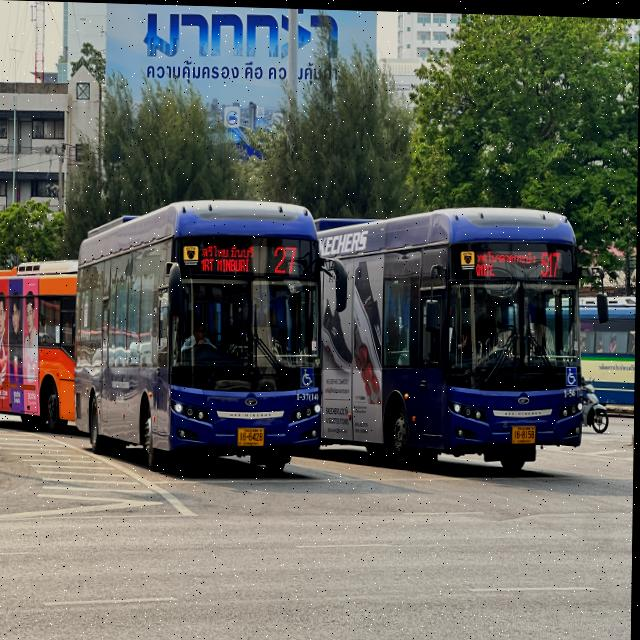BMTA-bus: (0, 260, 80, 435)
Bus Line Number: (271, 241, 304, 277), (540, 245, 565, 276)
Bus Side Number: (296, 390, 321, 400), (564, 384, 584, 396)
Destination Sign: (475, 243, 539, 277), (198, 240, 260, 275)
TSB-Bus: (318, 205, 593, 471), (75, 199, 326, 473)
